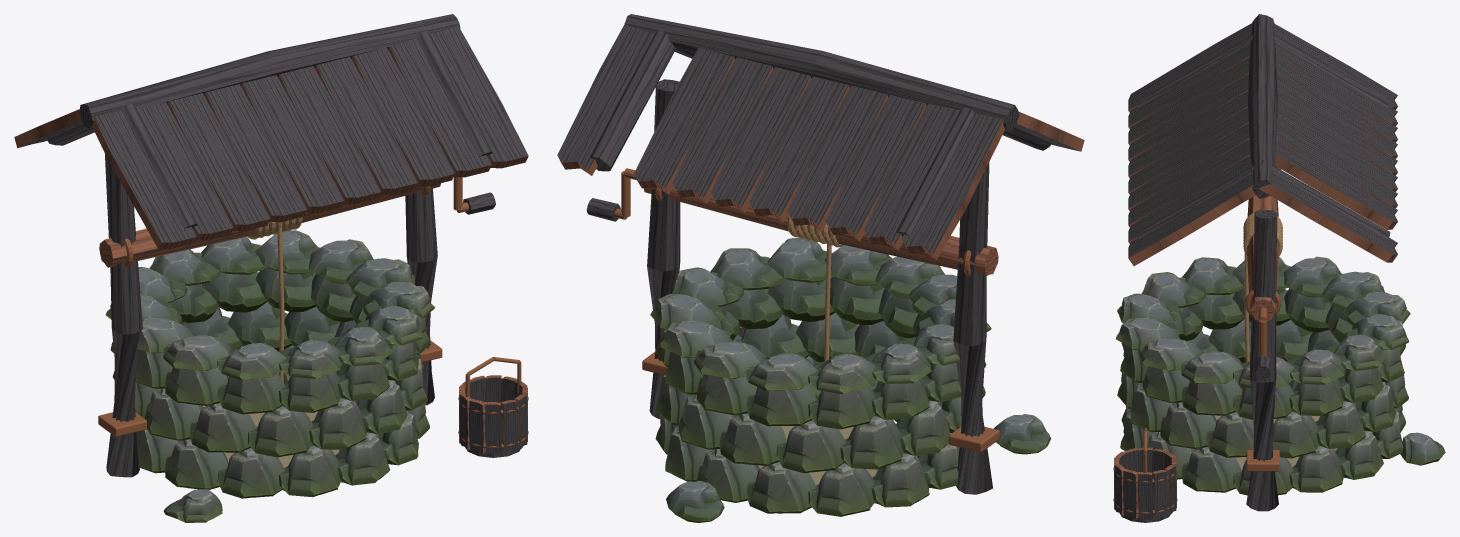
File: Woodland_Well_Barren.glb
3 renders of one model, left to right at view 1: azimuth 30°, elevation 25°; view 2: azimuth 150°, elevation 25°; view 3: azimuth 270°, elevation 25°, orthographic. The views are drawn at different scales.
Visible parts, largest first — view 1: Structure; view 2: Structure; view 3: Structure.
Boxes of the visible parts, bbox=[...] form: Structure: bbox=[14, 14, 528, 522]; Structure: bbox=[557, 14, 1084, 522]; Structure: bbox=[1113, 14, 1445, 522].
Size of the model in its own units: 3.63 by 3.31 by 2.82.
6 materials, 3 textured.
